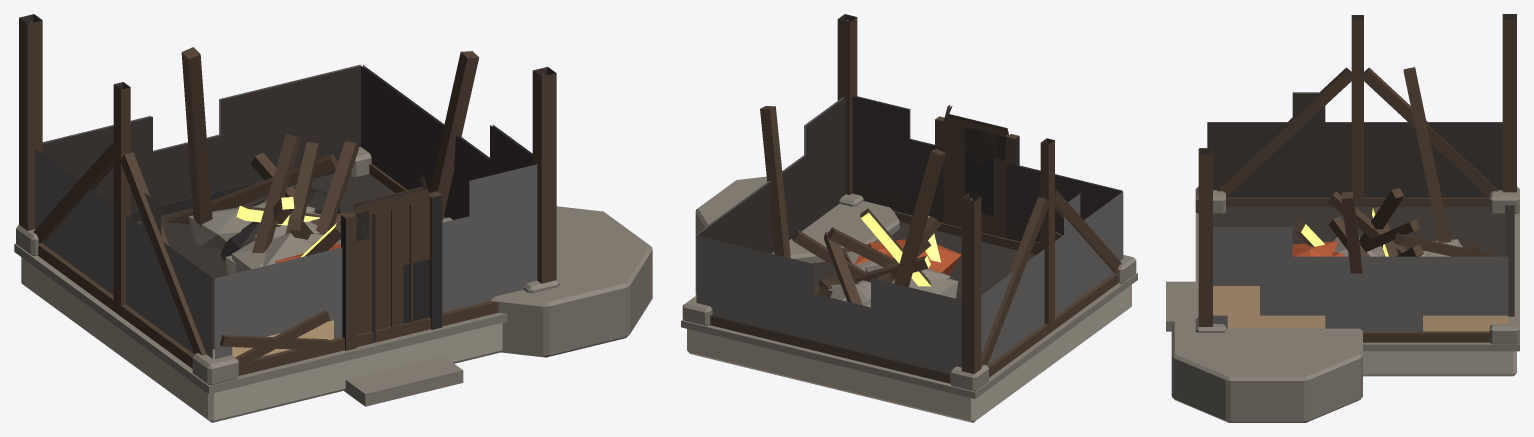
Rendered from Haus_Turm_Ruine.fbx.
The picture shows the model from 3 angles, left to right: view 1: azimuth 30°, elevation 25°; view 2: azimuth 150°, elevation 25°; view 3: azimuth 270°, elevation 25°; orthographic projection. The views are drawn at different scales.
Visible parts, largest first — view 1: Haus_Turm_Ruine; view 2: Haus_Turm_Ruine; view 3: Haus_Turm_Ruine.
Part boxes in pixels (left/top/right/bottom): Haus_Turm_Ruine: left=14, top=14, right=652, bottom=422; Haus_Turm_Ruine: left=681, top=14, right=1137, bottom=422; Haus_Turm_Ruine: left=1166, top=14, right=1519, bottom=422.
Bounding box in the file's own units: 6.16 × 3.4 × 4.89.
